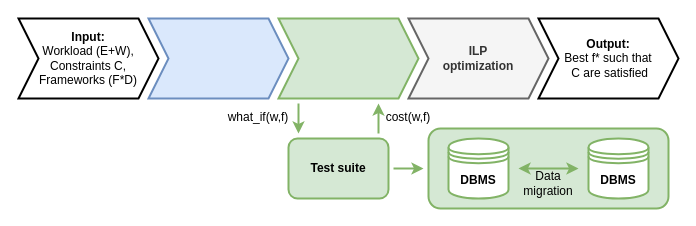
Image size: 696x226. Some labels were removed from this diagram. Each missing label, with the centre of its shape:
"Enumeration (benchmarking)" goes at (348,58).
"Translate (e,w) into each f in (F*D)" goes at (218,58).
